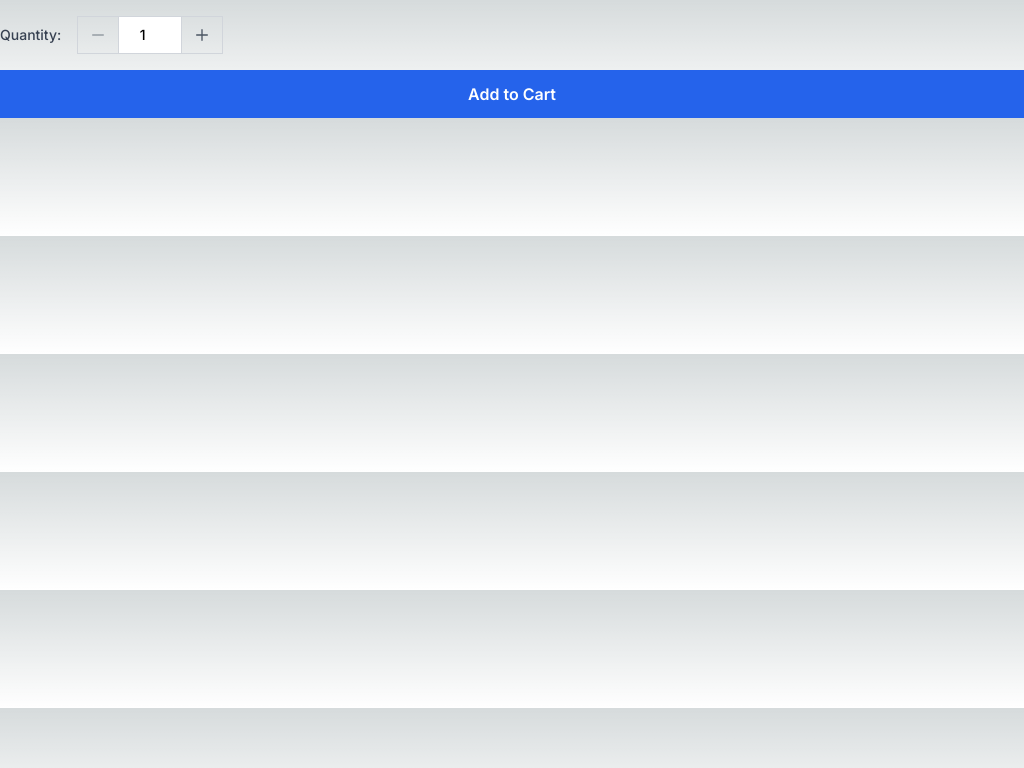
AddToCartButton Component › should display error message on failed add
Click the button "Add to Cart": (512, 94) [0,70,1023,118]
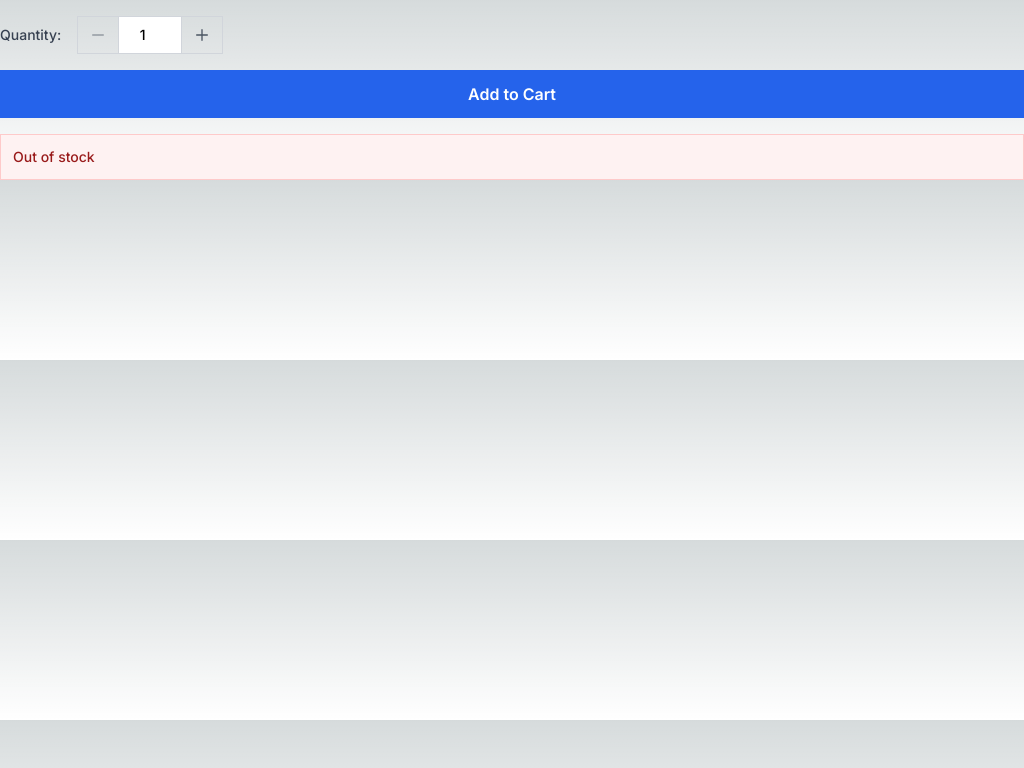
Expected: the text "Out of stock" is shown, [0,134,1023,180]
